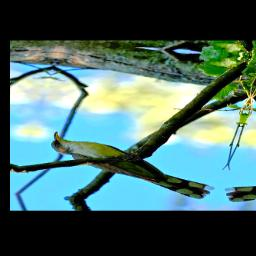Cuckoo: (36, 131, 228, 199)
